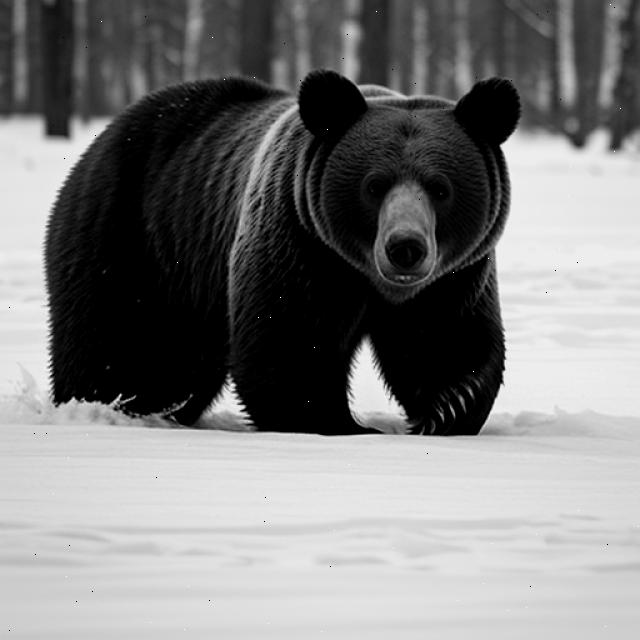bear: (250, 51, 530, 279)
